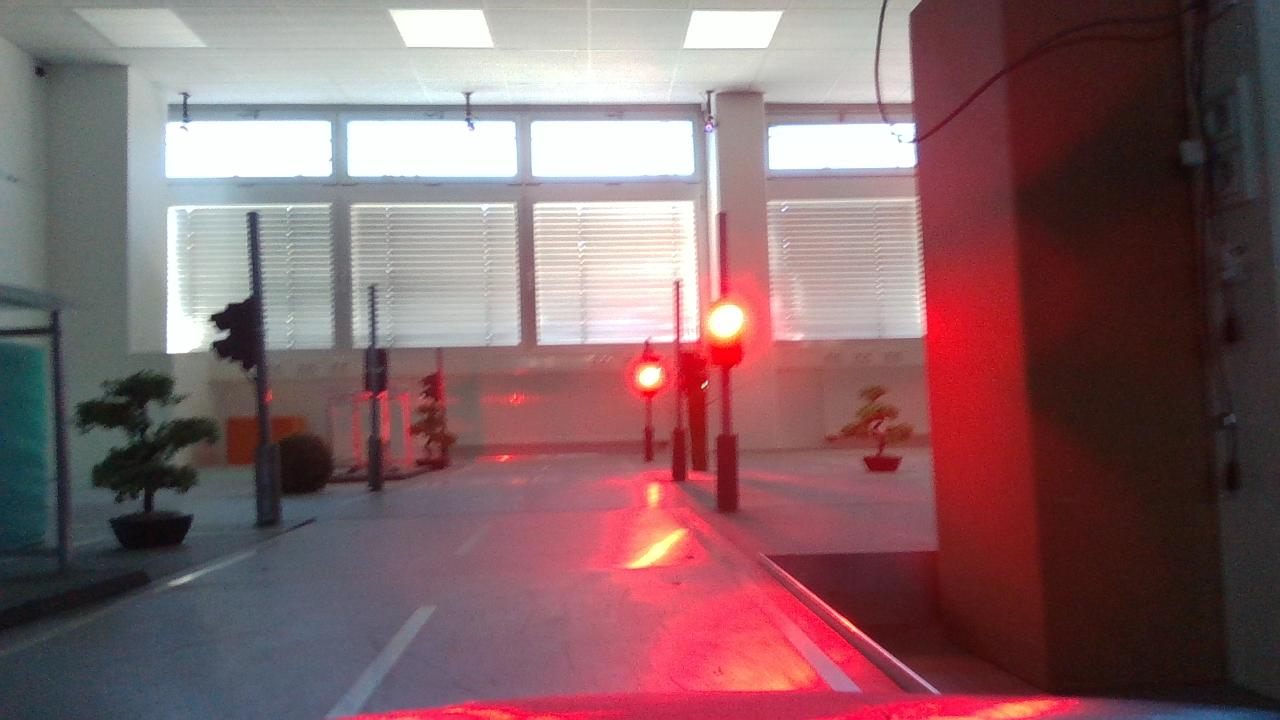traffic_light_red: (698, 296, 757, 379)
